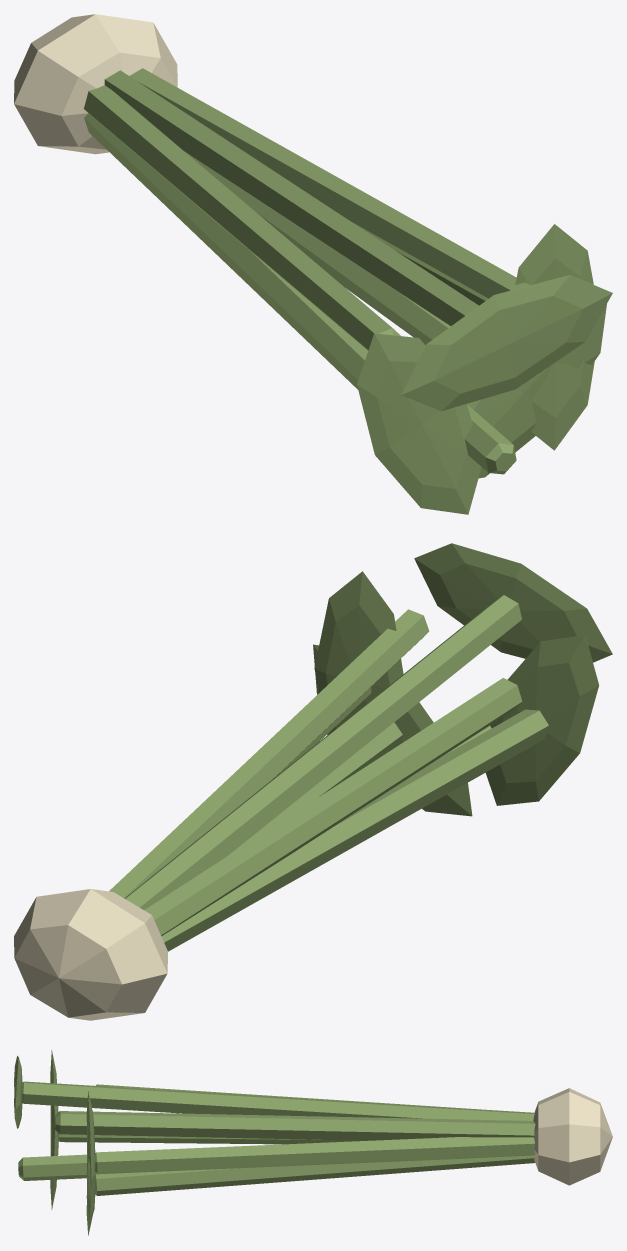
Rendered from celery.glb.
The picture shows the model from 3 angles, top to bottom: view 1: azimuth 30°, elevation 25°; view 2: azimuth 150°, elevation 25°; view 3: azimuth 270°, elevation 25°; orthographic projection. The views are drawn at different scales.
Parts seen in each view (by area): view 1: celery; view 2: celery; view 3: celery.
Part boxes in pixels (x1=…): celery: x1=14, y1=14, x2=612, y2=514; celery: x1=14, y1=543, x2=612, y2=1020; celery: x1=14, y1=1050, x2=612, y2=1235.
Size of the model in its own units: 0.0849 by 0.0709 by 0.2469.
